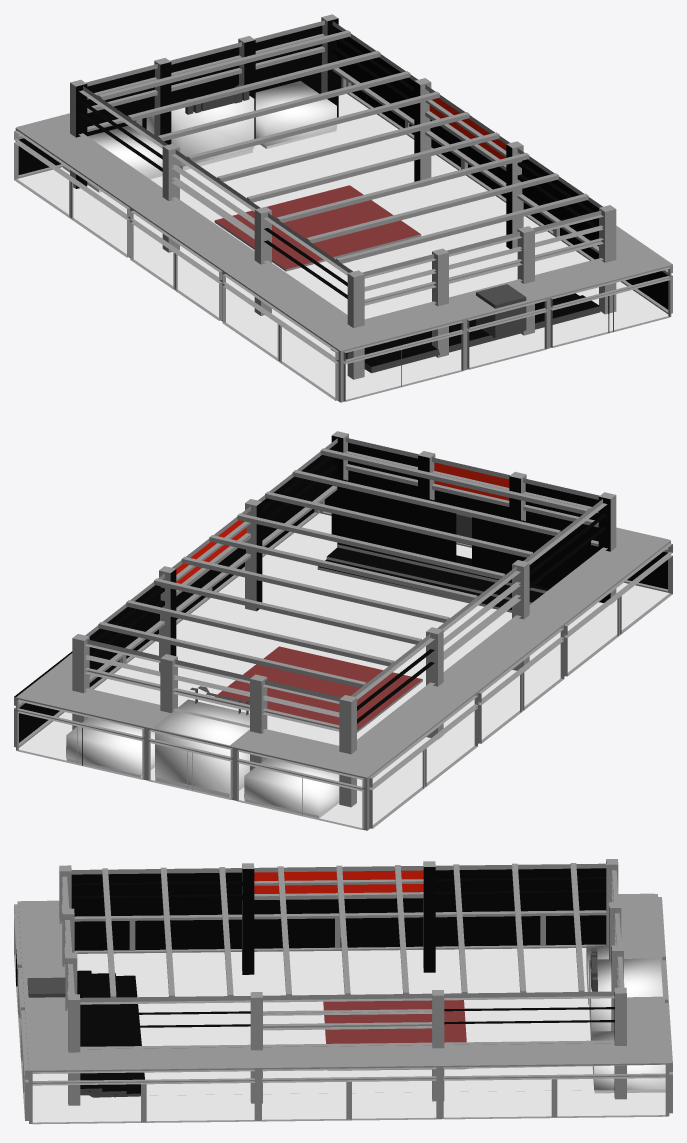
3 renders of one model, top to bottom at view 1: azimuth 30°, elevation 25°; view 2: azimuth 150°, elevation 25°; view 3: azimuth 270°, elevation 25°, orthographic. The views are drawn at different scales.
Parts seen in each view (by area): view 1: stone, floor_Seondary, Walls, Dance_stage, Steps1_2, Outer_Block, DJDesk; view 2: stone, floor_Seondary, Walls, Dance_stage, Steps1_2_2, Steps1_1, Steps1, Steps1_2; view 3: stone, floor_Seondary, Walls, Dance_stage, Steps1, Steps1_2, Steps1_2_2, Steps1_1, Outer_Block.
Boxes of the visible parts, x1,y1,x2,y2 form: stone: [14, 14, 672, 402]; floor_Seondary: [17, 81, 668, 399]; Walls: [18, 25, 668, 309]; Dance_stage: [214, 185, 421, 271]; Steps1_2: [364, 295, 600, 373]; Outer_Block: [476, 284, 526, 338]; DJDesk: [185, 84, 249, 114]; stone: [14, 431, 672, 830]; floor_Seondary: [19, 513, 669, 827]; Walls: [14, 442, 667, 742]; Dance_stage: [215, 646, 422, 732]; Steps1_2_2: [326, 549, 543, 604]; Steps1_1: [332, 547, 543, 598]; Steps1: [317, 559, 511, 612]; Steps1_2: [337, 543, 549, 593]; stone: [14, 859, 672, 1124]; floor_Seondary: [32, 945, 665, 1122]; Walls: [71, 868, 605, 950]; Dance_stage: [323, 1000, 467, 1070]; Steps1: [114, 975, 144, 1097]; Steps1_2: [77, 970, 102, 1095]; Steps1_2_2: [91, 973, 126, 1097]; Steps1_1: [84, 973, 115, 1097]; Outer_Block: [27, 977, 65, 997].
Bounding box in the file's own units: 990 × 346 × 1529.
